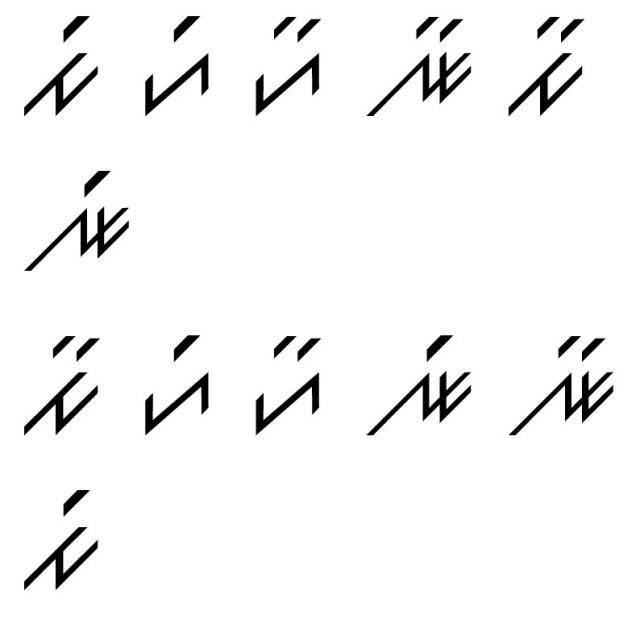han: (246, 330, 334, 440), (244, 13, 326, 121)
hang: (133, 325, 215, 442), (138, 12, 214, 117)
mban: (19, 320, 104, 440), (502, 10, 590, 119)
mbang: (17, 483, 104, 592), (21, 8, 102, 122)
ndan: (507, 327, 616, 444), (369, 12, 476, 123)
ndang: (22, 159, 134, 278), (363, 322, 474, 442)
